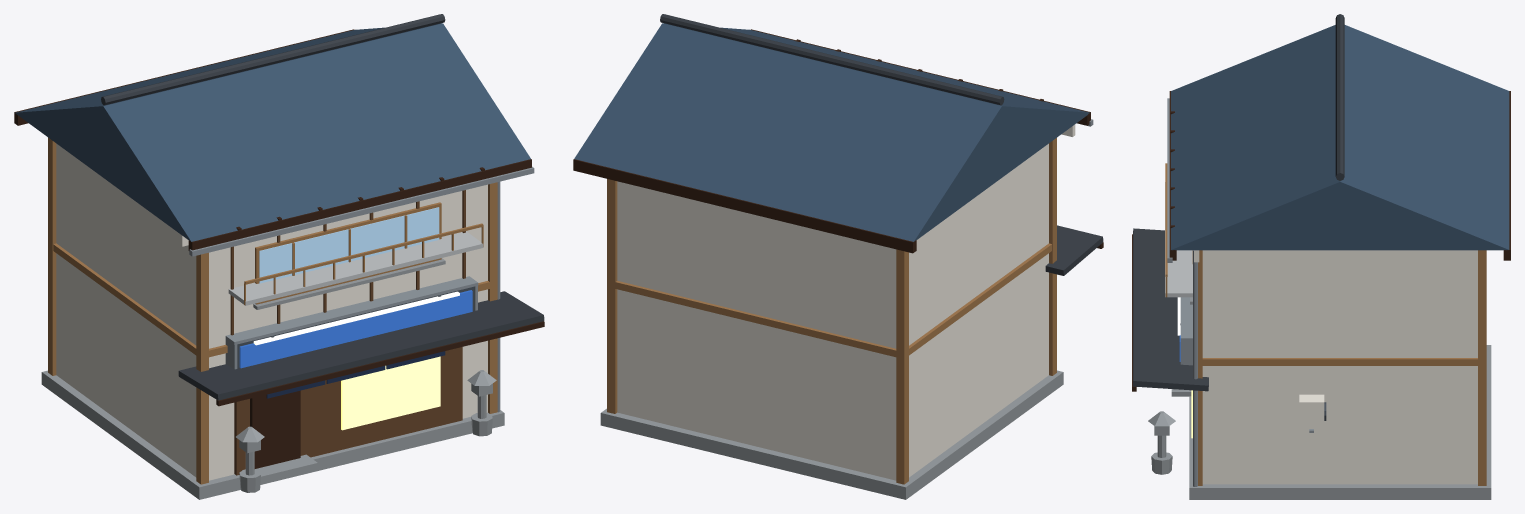
Rendered from shop_sushi_2f.glb.
3 views of the same model, side by side, from view 1: azimuth 30°, elevation 25°; view 2: azimuth 150°, elevation 25°; view 3: azimuth 270°, elevation 25° (orthographic). The views are drawn at different scales.
Visible parts, largest first — view 1: roof.009, body.021, eave.009, panel, base.021, win_glass.040, panel_glass, sign_face.021, balcony_slab.033, ridge.009, eave_front.009, door.021 (+14 smaller); view 2: body.021, roof.009, base.021, eave_back.009, beam.066, ridge.009, post.085, post.087, post.084, eave.009; view 3: roof.009, body.021, eave.009, base.021, beam.066, post.087, ridge.009, balcony_slab.033, post.086, downpipe.008, ac_body.034, sign_rim_top.020 (+1 smaller).
Boxes of the visible parts, <box> form: roof.009: <box>15,23,530,241</box>; body.021: <box>56,143,487,480</box>; eave.009: <box>178,291,544,400</box>; panel: <box>234,347,462,475</box>; base.021: <box>41,370,504,499</box>; win_glass.040: <box>259,207,439,283</box>; panel_glass: <box>341,356,440,430</box>; sign_face.021: <box>239,290,472,368</box>; balcony_slab.033: <box>228,231,483,305</box>; ridge.009: <box>101,14,445,105</box>; eave_front.009: <box>188,159,531,250</box>; door.021: <box>250,390,300,468</box>; body.021: <box>617,143,1048,480</box>; roof.009: <box>574,23,1089,241</box>; base.021: <box>600,370,1063,499</box>; eave_back.009: <box>573,159,916,253</box>; beam.066: <box>615,243,1051,357</box>; ridge.009: <box>660,14,1004,105</box>; post.085: <box>896,249,908,484</box>; post.087: <box>607,179,617,413</box>; post.084: <box>1049,138,1056,375</box>; eave.009: <box>1045,225,1103,275</box>; roof.009: <box>1171,25,1509,250</box>; body.021: <box>1202,250,1477,484</box>; eave.009: <box>1133,228,1208,391</box>; base.021: <box>1189,345,1491,499</box>; beam.066: <box>1202,358,1477,365</box>; post.087: <box>1478,250,1486,485</box>; ridge.009: <box>1335,14,1344,180</box>; balcony_slab.033: <box>1165,182,1192,297</box>; post.086: <box>1198,250,1202,485</box>; downpipe.008: <box>1193,250,1197,486</box>; ac_body.034: <box>1299,394,1324,428</box>; sign_rim_top.020: <box>1180,297,1192,341</box>.
Size of the model in its own units: 8.5 by 8.3 by 8.5.
